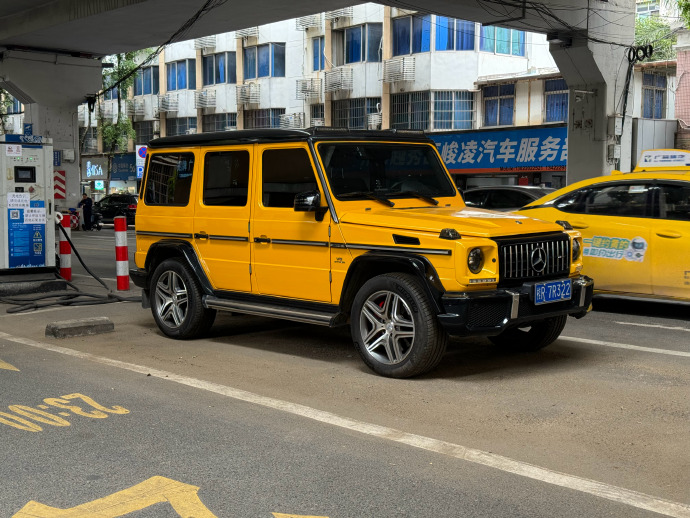other: (128, 122, 588, 369), (521, 160, 690, 314)
